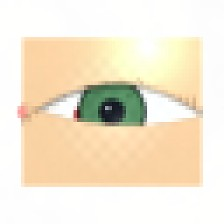hemorrhage_spot: (64, 87, 132, 141)
